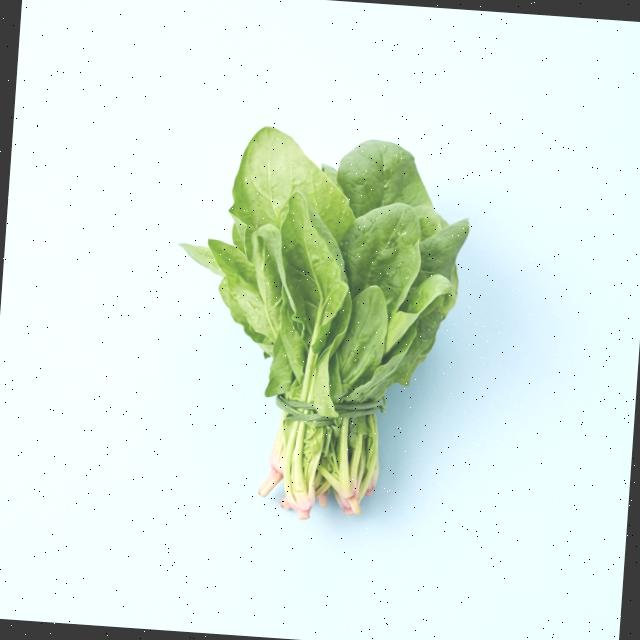spinach: (0, 21, 640, 620)
